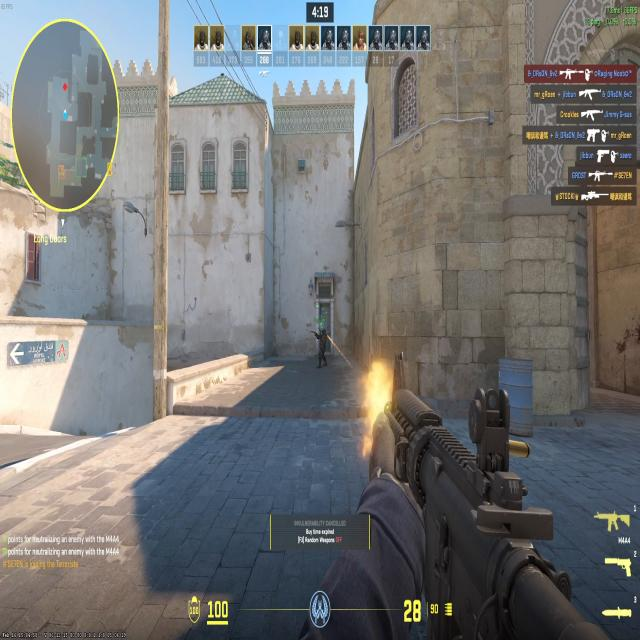player: (309, 319, 333, 377)
